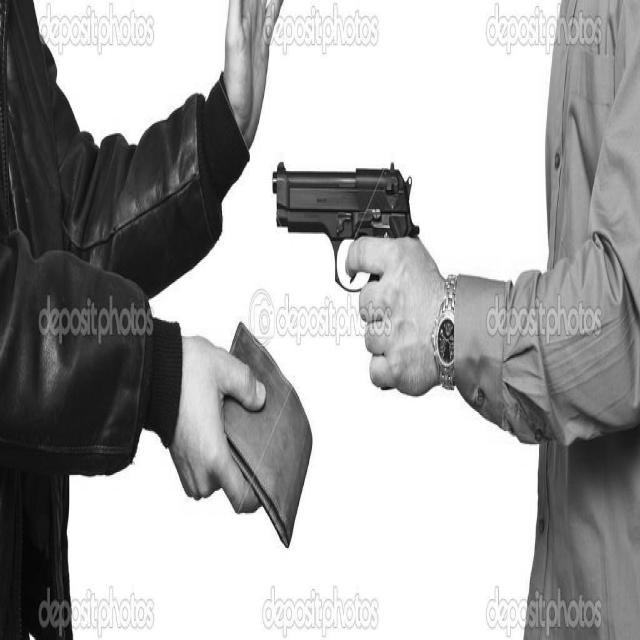gun: (270, 152, 426, 373)
